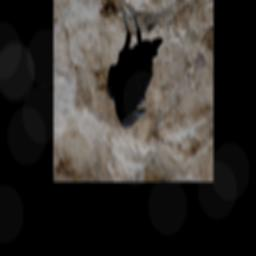Crow: (107, 5, 163, 129)
